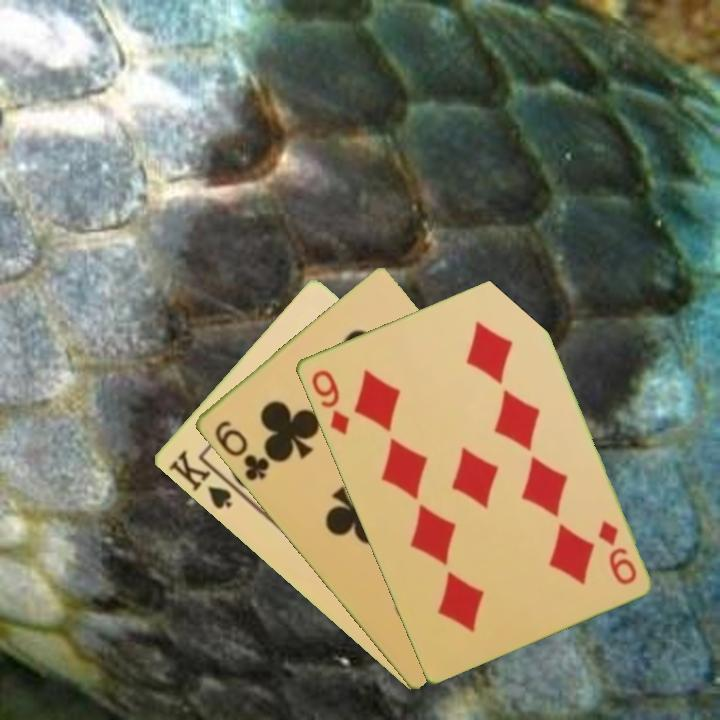6c: (210, 416, 272, 484)
9d: (307, 366, 352, 438), (594, 517, 639, 588)
Ks: (164, 447, 234, 513)
